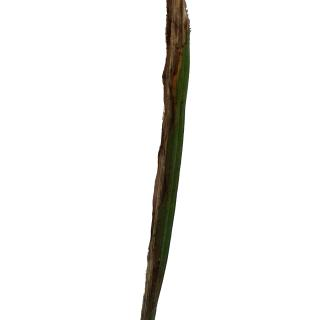Hawar-Daun: (164, 0, 190, 94), (160, 95, 170, 239), (147, 244, 162, 316)
